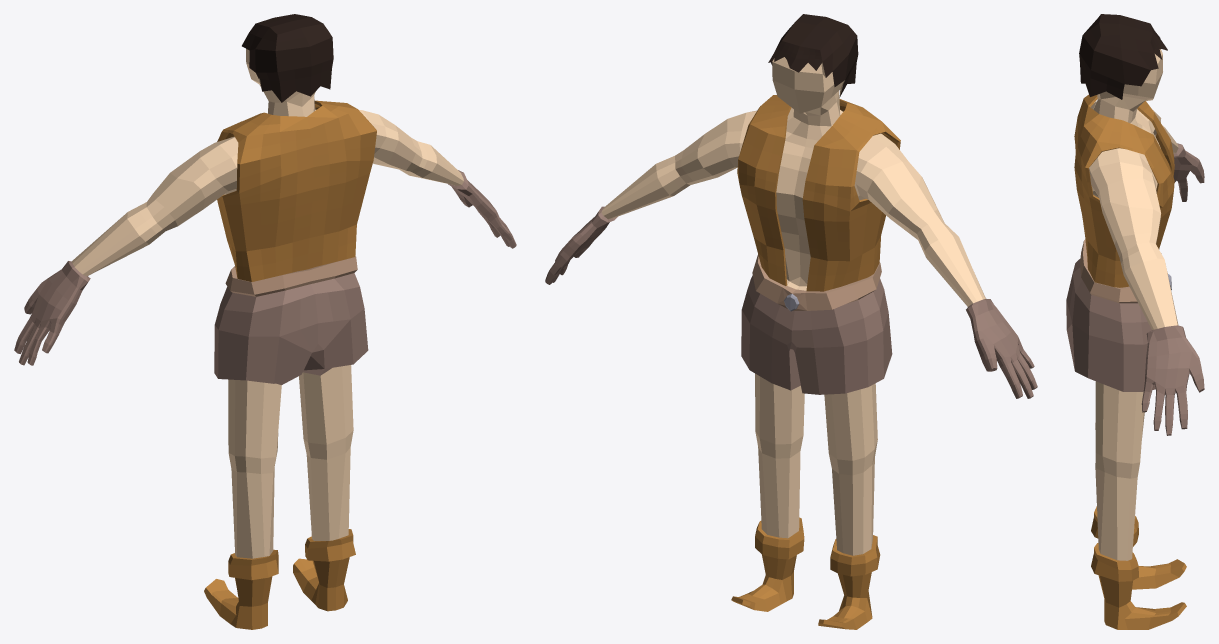
Rendered from babylonchar.fbx.
3 renders of one model, left to right at view 1: azimuth 30°, elevation 25°; view 2: azimuth 150°, elevation 25°; view 3: azimuth 270°, elevation 25°, orthographic. The views are drawn at different scales.
Parts seen in each view (by area): view 1: char; view 2: char; view 3: char.
Part boxes in pixels (x1,y1,x2,y2): char: (14,14,516,629); char: (545,14,1037,629); char: (1066,14,1204,629).
Bounding box in the file's own units: 27.32 × 31.49 × 6.8.
